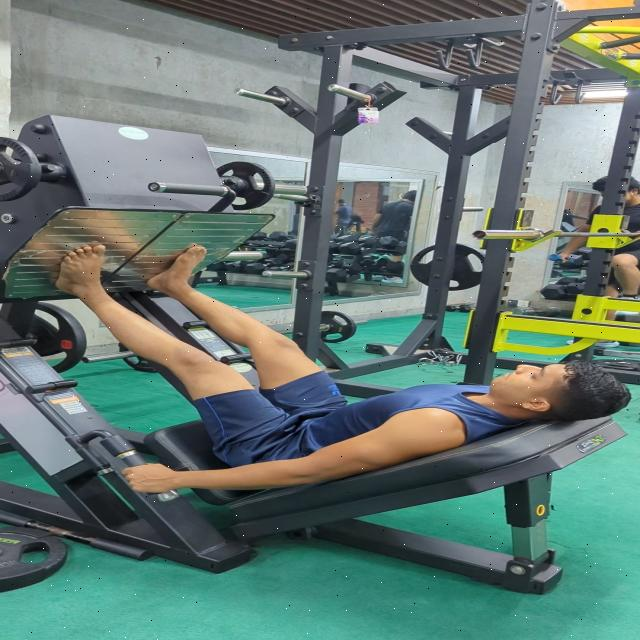Normal_LegPress: (27, 238, 637, 500)
